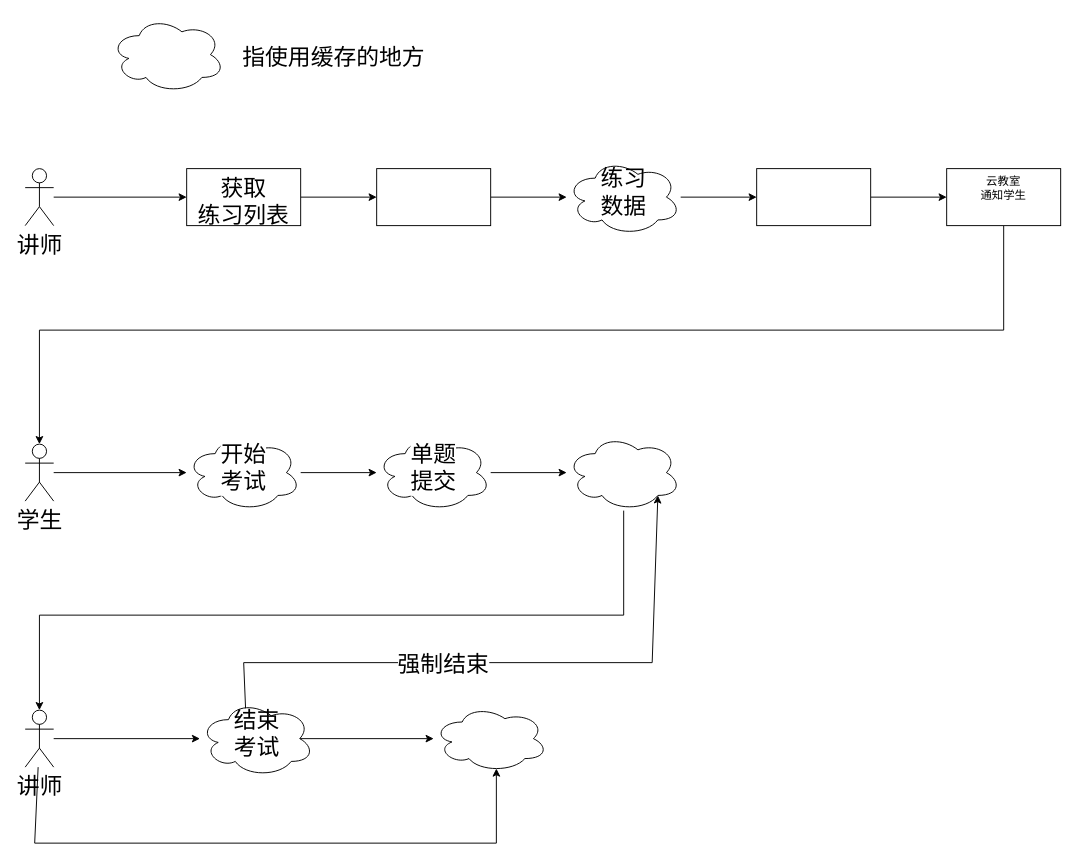
Image size: 1077x867. Some labels were removed from this diagram. The shapes that lost their labels are listed below. From the top down, each one's centre as x and y in pixels, then its label:
At point 433,197: "选中列表 某一练习".
At point 813,197: "开始答题".
At point 623,472: "交卷".
At point 490,738: "答题 结果".
